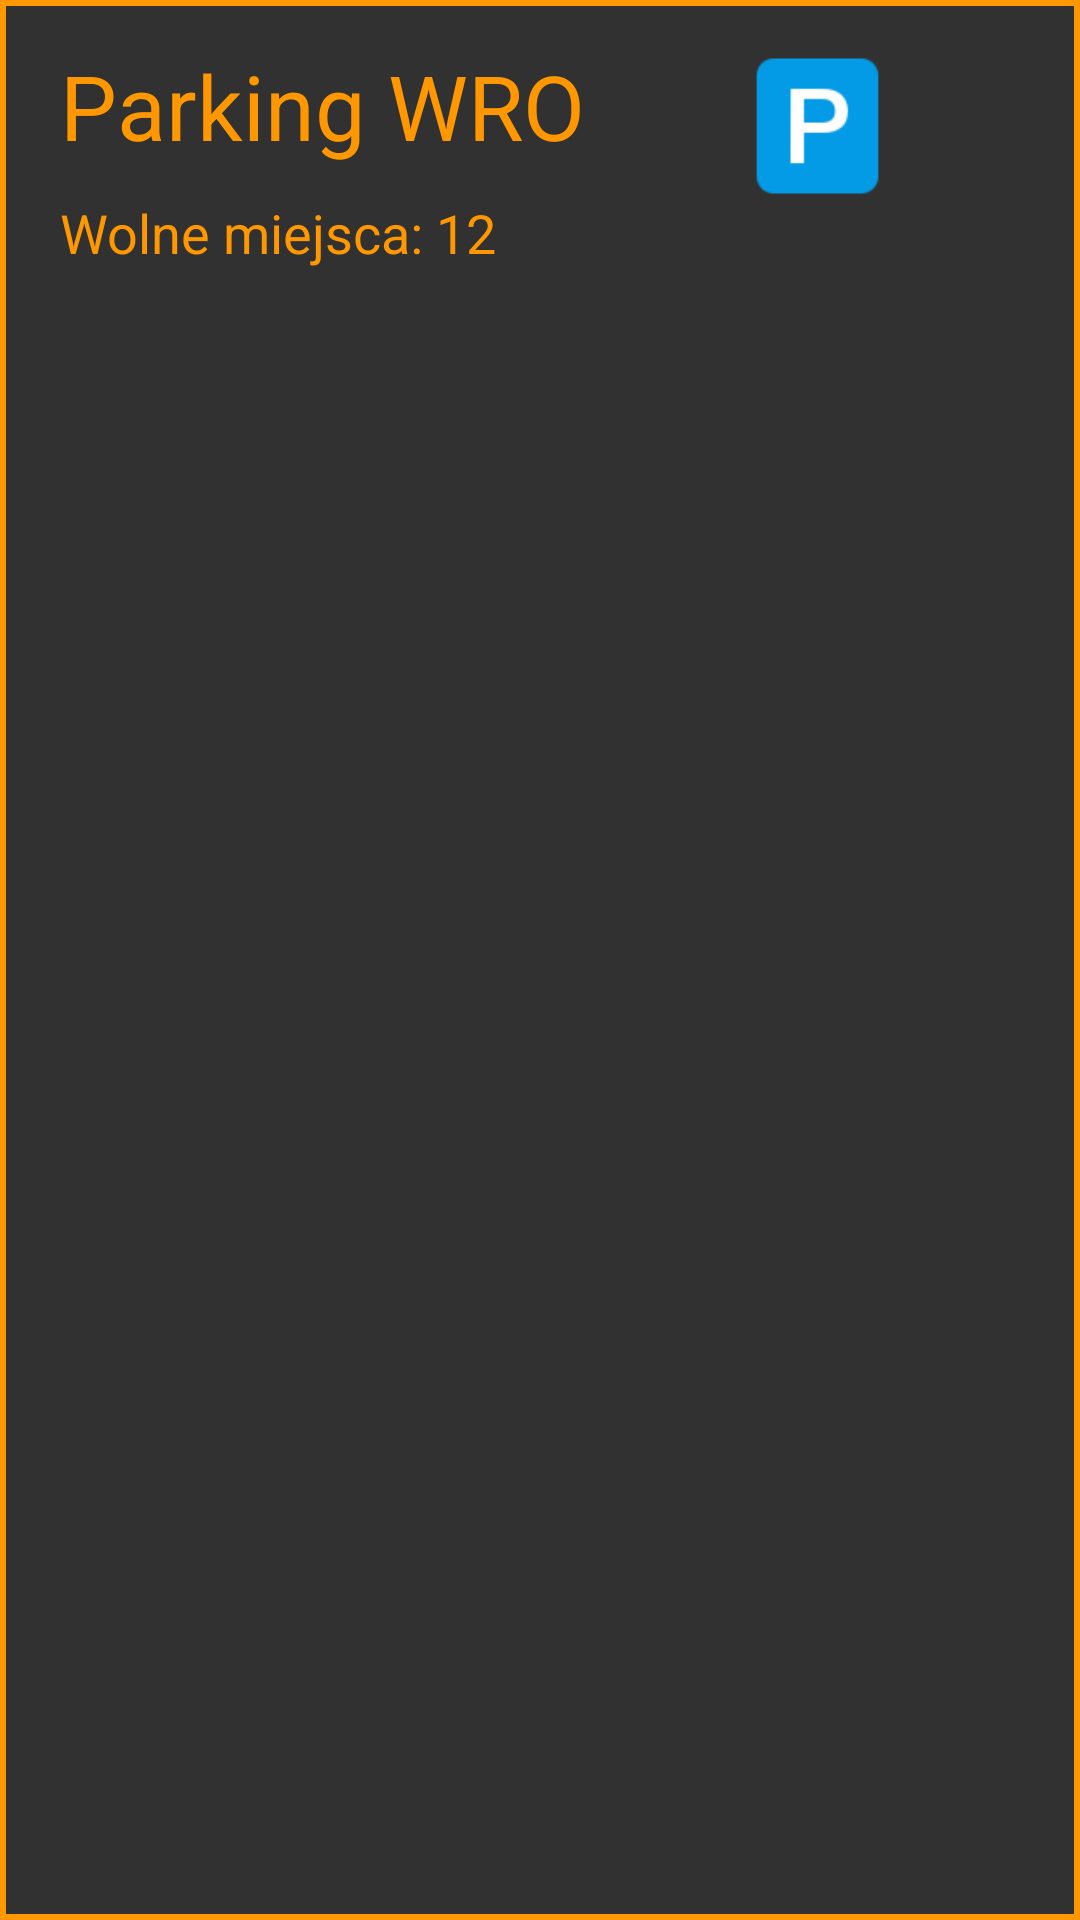

Named icons in this screenshot (1080w x 1920h) and their bounding boxes, bbox(x1, y1, x2, y2):
parkingicon: bbox(756, 58, 879, 194)
